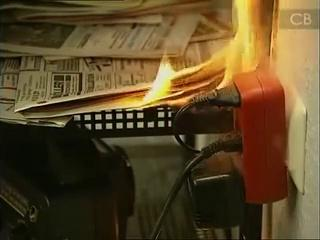Fire: (109, 1, 274, 147)
